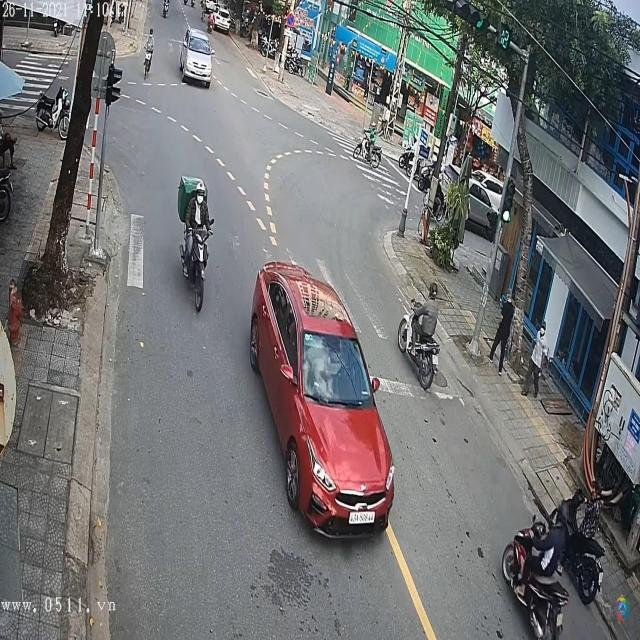car: (245, 261, 394, 537), (182, 27, 216, 89)
motorcycle: (501, 516, 573, 640), (180, 189, 215, 312), (396, 298, 441, 393), (352, 122, 384, 171)
